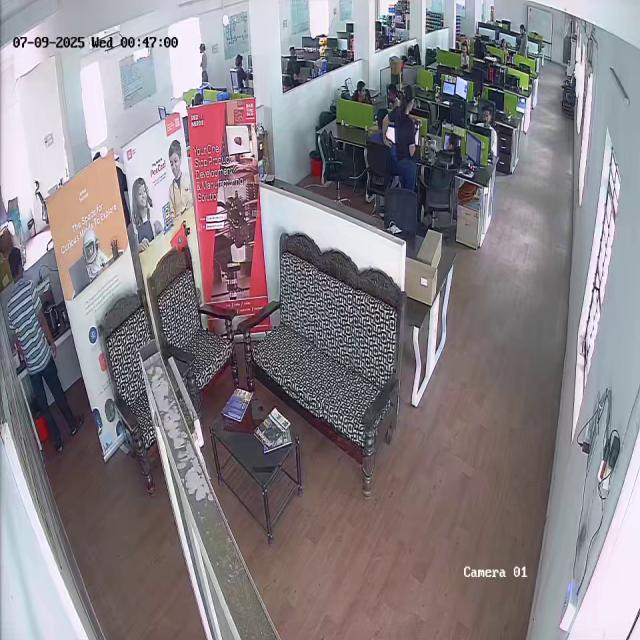person: (3, 249, 60, 453), (382, 87, 418, 213), (475, 108, 501, 156), (349, 81, 371, 106), (383, 85, 401, 104)
